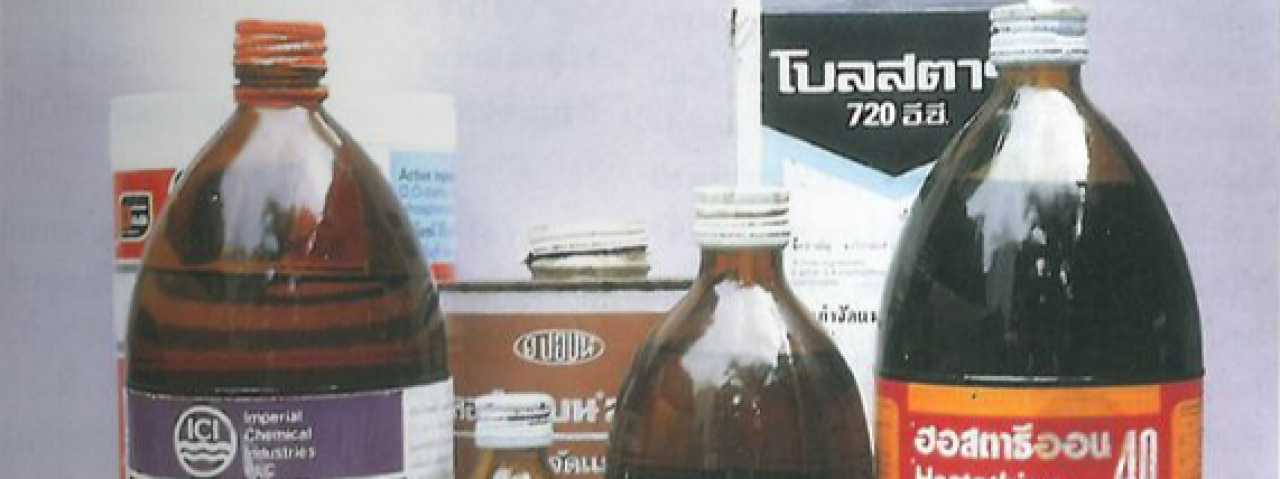Insecticide: (847, 1, 1221, 479), (103, 8, 477, 479), (593, 173, 872, 479)
